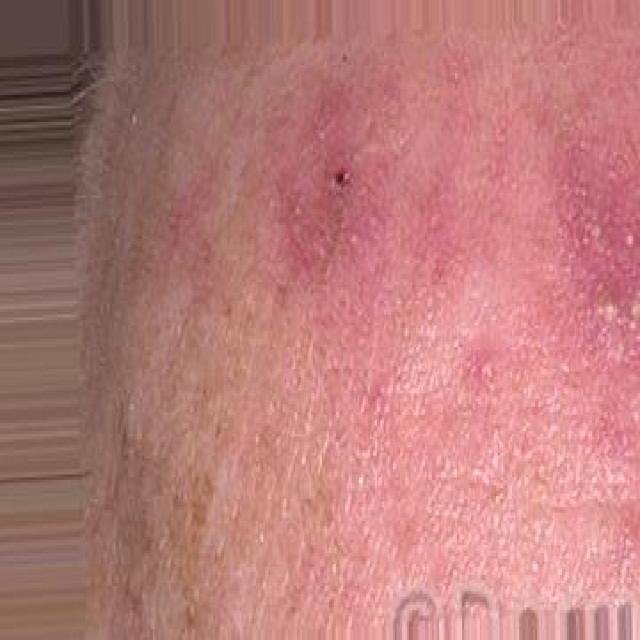Rosacea: (161, 61, 640, 582)
